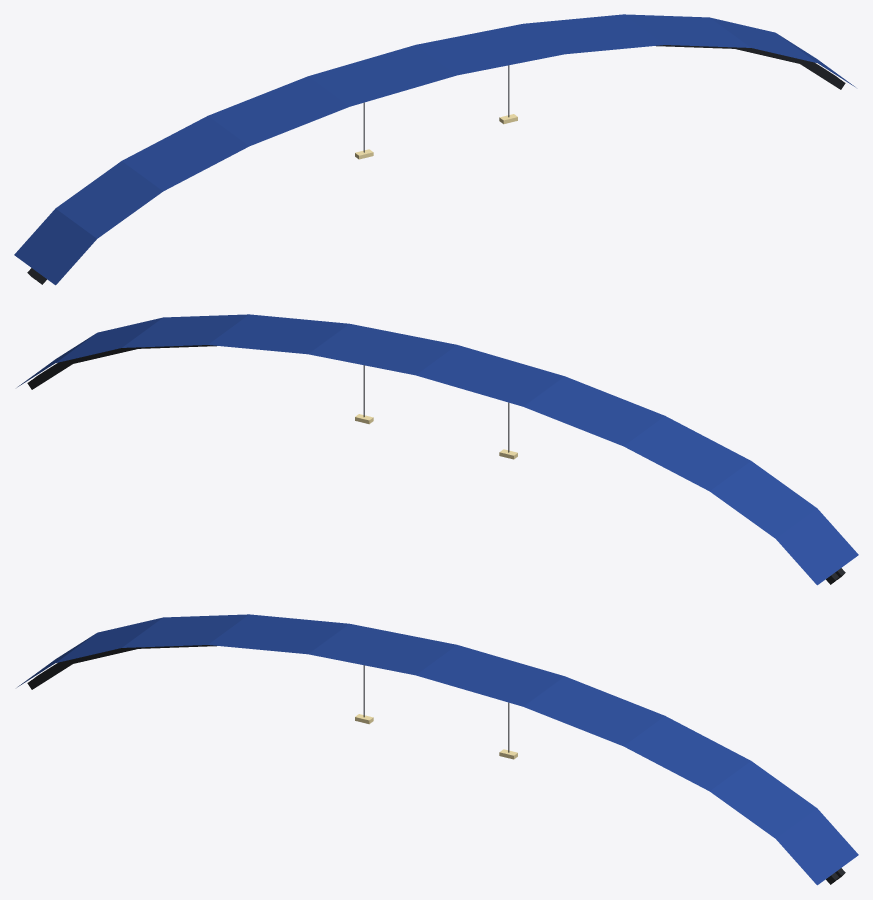
File: elt_techo_interior.obj
The picture shows the model from 3 angles, top to bottom: view 1: azimuth 30°, elevation 25°; view 2: azimuth 150°, elevation 25°; view 3: azimuth 330°, elevation 25°; orthographic projection.
Parts seen in each view (by area): view 1: elt_techo_interior; view 2: elt_techo_interior; view 3: elt_techo_interior.
Boxes of the visible parts, left/top/right/bottom form: elt_techo_interior: left=14, top=14, right=855, bottom=285; elt_techo_interior: left=17, top=314, right=858, bottom=585; elt_techo_interior: left=17, top=614, right=858, bottom=885.
Bounding box in the file's own units: 89.38 × 13.07 × 8.
